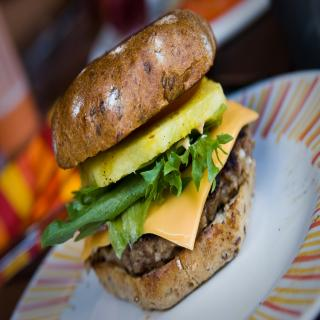Hamburger: (41, 11, 260, 310)
